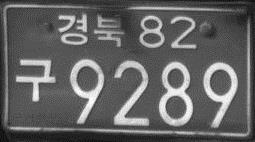2: (111, 57, 151, 127), (168, 13, 198, 51)
8: (157, 60, 194, 127), (138, 13, 165, 46)
9: (67, 56, 106, 125), (201, 60, 239, 129)
경북_O: (55, 12, 125, 49)
구: (14, 56, 56, 104)
